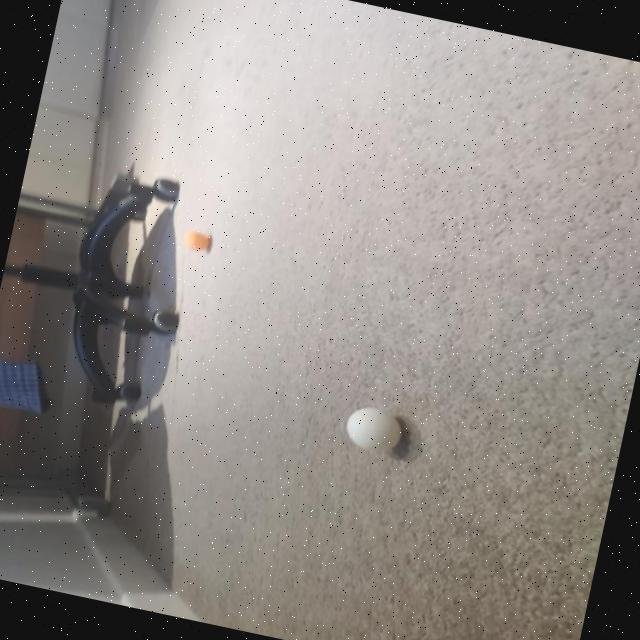ping-pong-ball: (336, 399, 416, 459), (176, 223, 217, 257)
